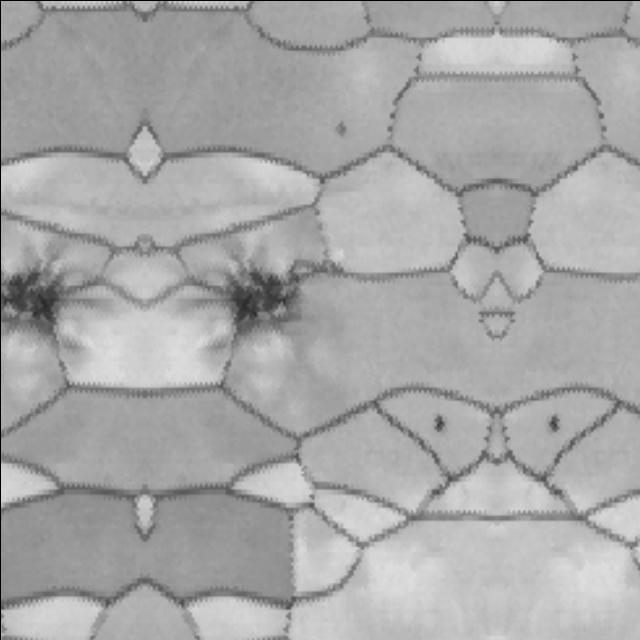good_void: (192, 256, 307, 340), (0, 256, 94, 340), (415, 406, 450, 434), (542, 406, 576, 434), (333, 113, 345, 139)
